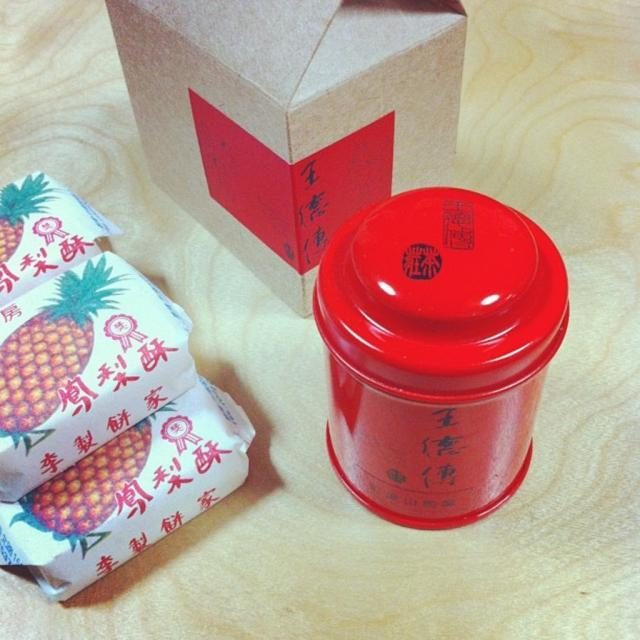Pineapple: (0, 254, 130, 435), (11, 401, 181, 537), (0, 169, 67, 260)
